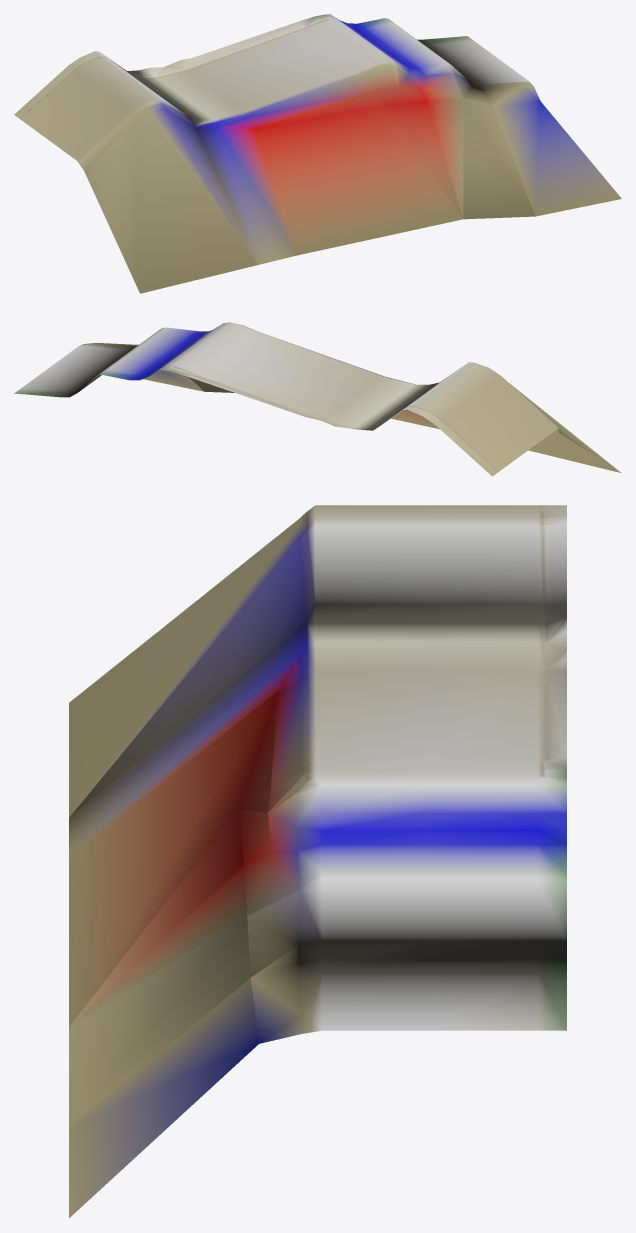
Rendered from VertexColor_01.fbx.
3 renders of one model, top to bottom at view 1: azimuth 30°, elevation 25°; view 2: azimuth 150°, elevation 25°; view 3: azimuth 270°, elevation 25°, orthographic. The views are drawn at different scales.
Visible parts, largest first — view 1: polySurface81; view 2: polySurface81; view 3: polySurface81.
Part boxes in pixels (x1,y1,x2,y2): polySurface81: (14, 14, 621, 293); polySurface81: (14, 322, 620, 476); polySurface81: (69, 505, 566, 1217).
Bounding box in the file's own units: 6002 × 1836 × 2676.
